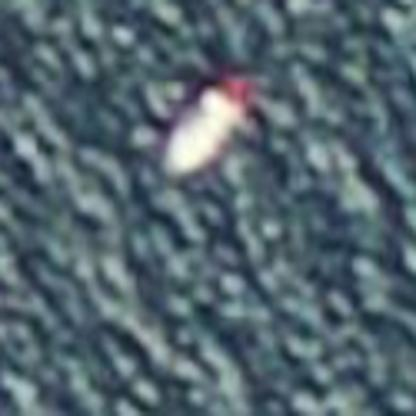ship: (156, 73, 262, 182)
